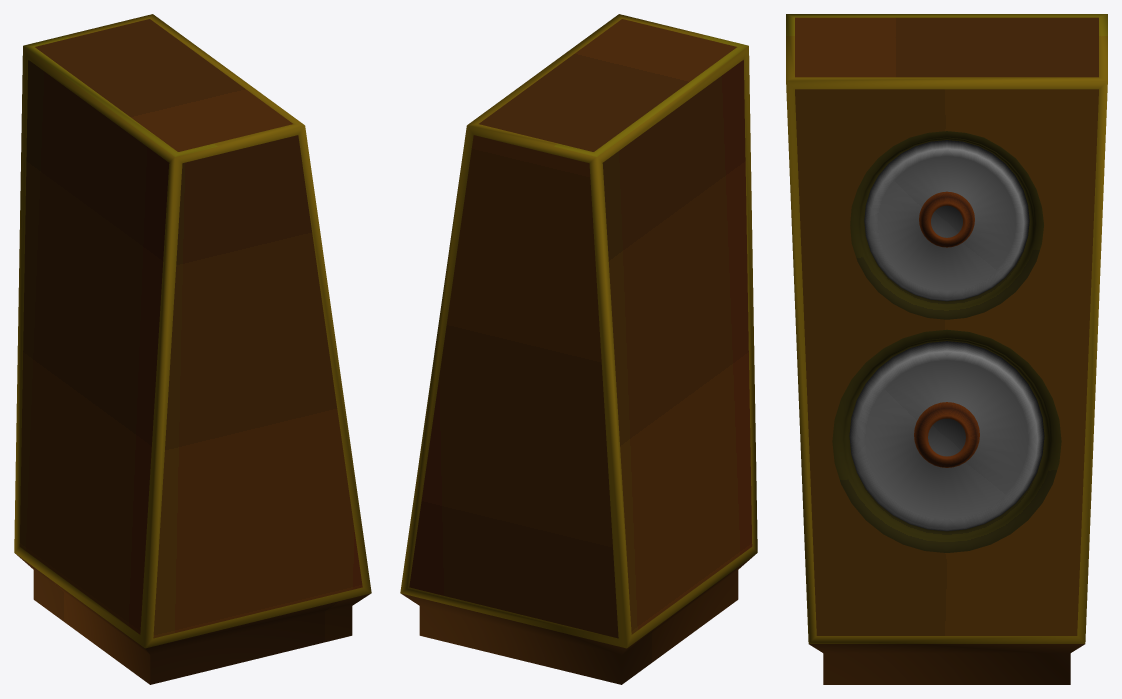
The model's file is speaker.fbx.
3 views of the same model, side by side, from view 1: azimuth 30°, elevation 25°; view 2: azimuth 150°, elevation 25°; view 3: azimuth 270°, elevation 25° (orthographic). The views are drawn at different scales.
Parts seen in each view (by area): view 1: Cube; view 2: Cube; view 3: Cube.
Part boxes in pixels (bbox=[...]): Cube: bbox=[14, 14, 371, 684]; Cube: bbox=[400, 14, 757, 684]; Cube: bbox=[786, 14, 1107, 684].
Bounding box in the file's own units: 31.29 × 71.12 × 36.39.
